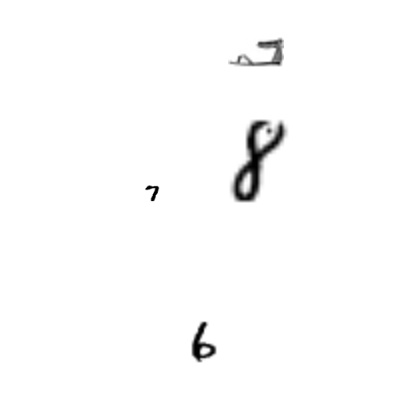6: (172, 316, 228, 372)
7: (142, 180, 164, 202)
8: (199, 101, 311, 213)
Sandal: (228, 24, 284, 80)
